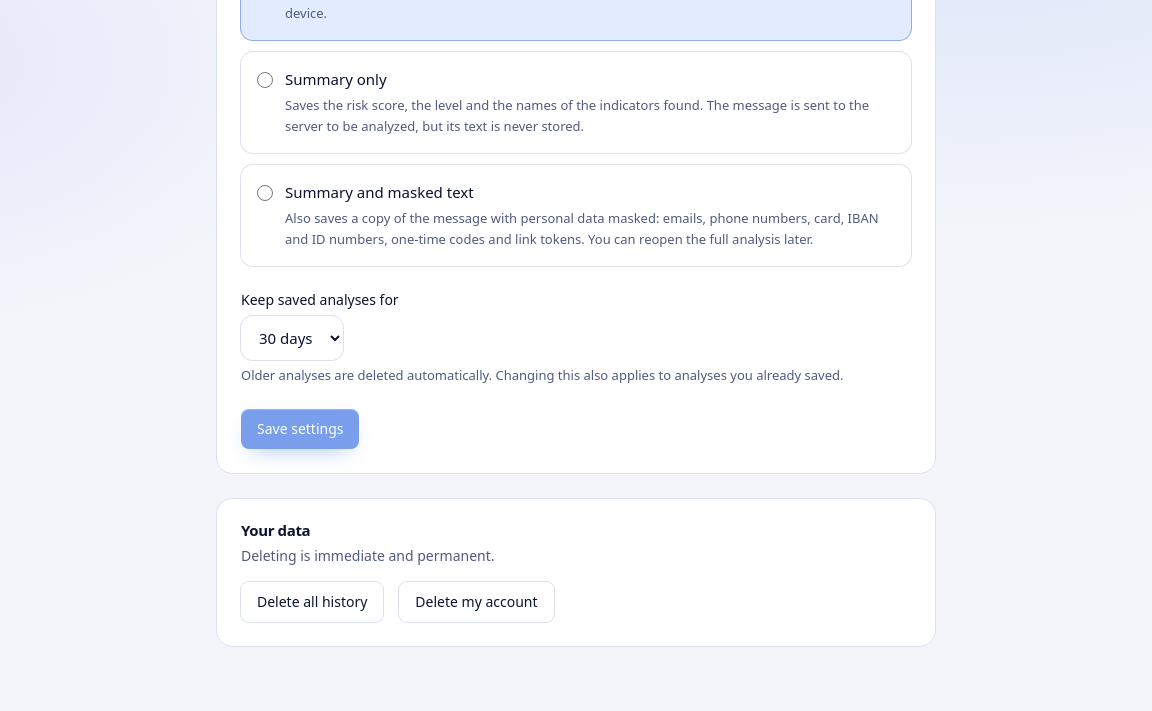
Scenario: SettingsPage › keeps the account when the password is wrong, and says so inside the dialog
(page scrolled)
Click the button "Delete my account": (476, 602) [399,582,554,622]
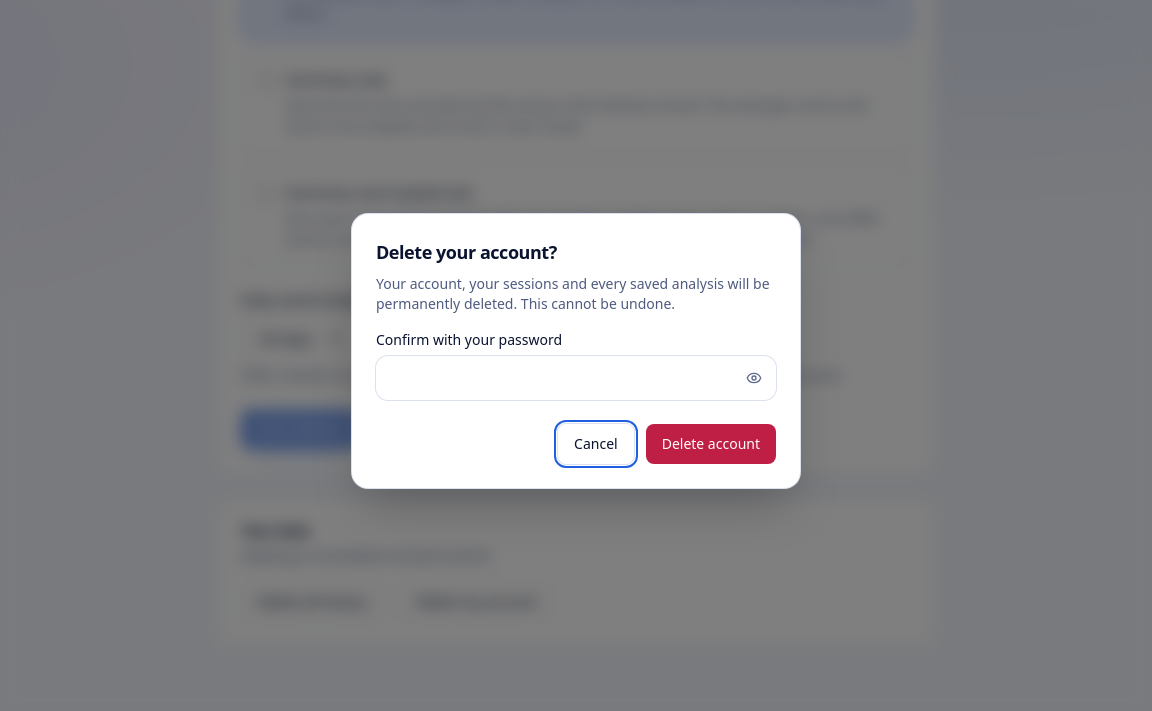
In the password field labelled "Confirm with your password": (576, 378) [376,356,776,400], type "nope"
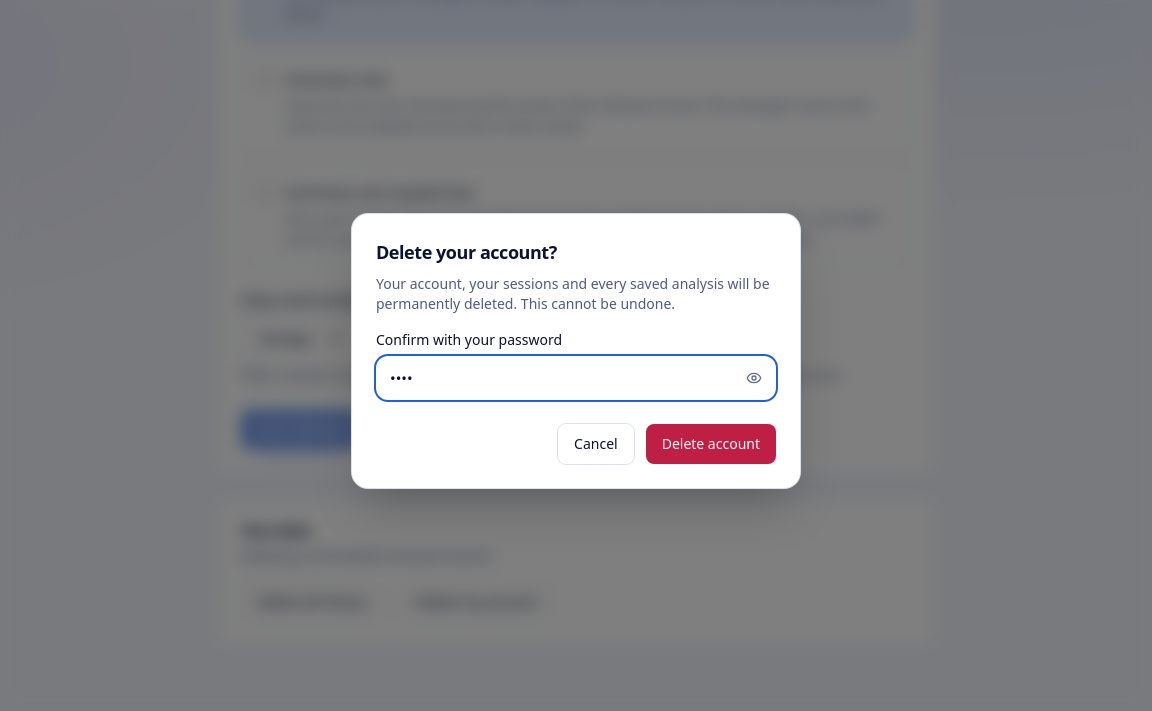
Click the button "Delete account": (711, 444) [646,424,776,464]
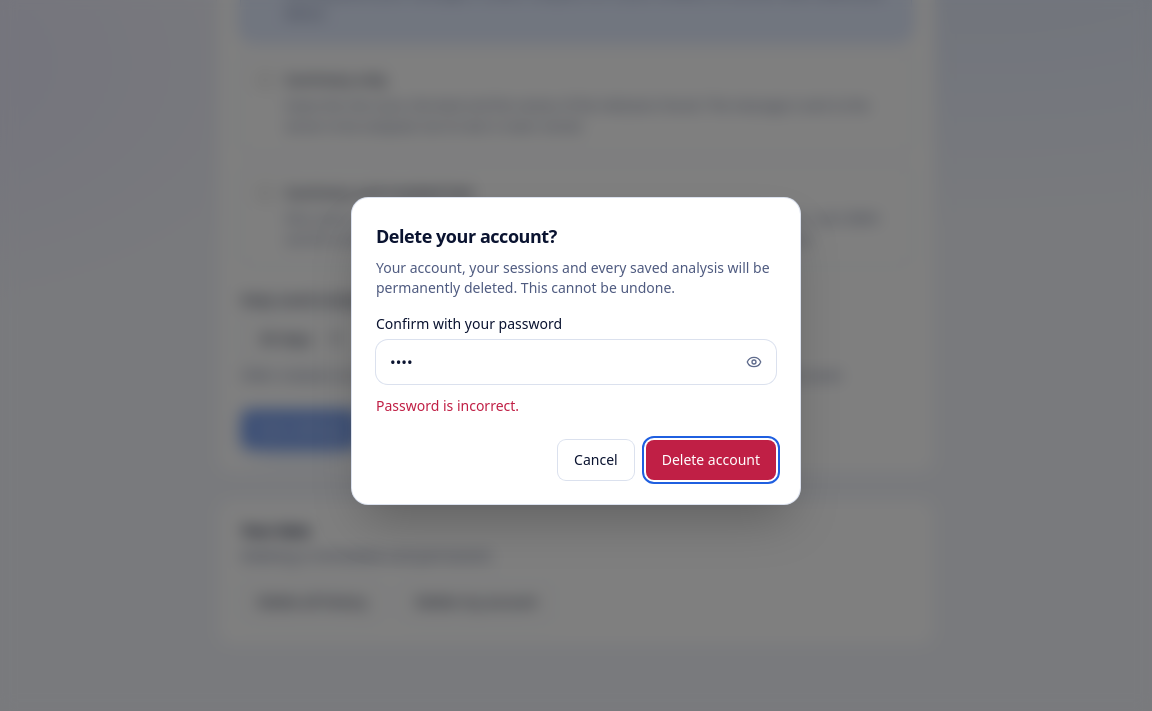
Expected: the dialog is shown, [352,198,800,504]
Expected: the text "Password is incorrect." is shown, [376,396,519,415]
